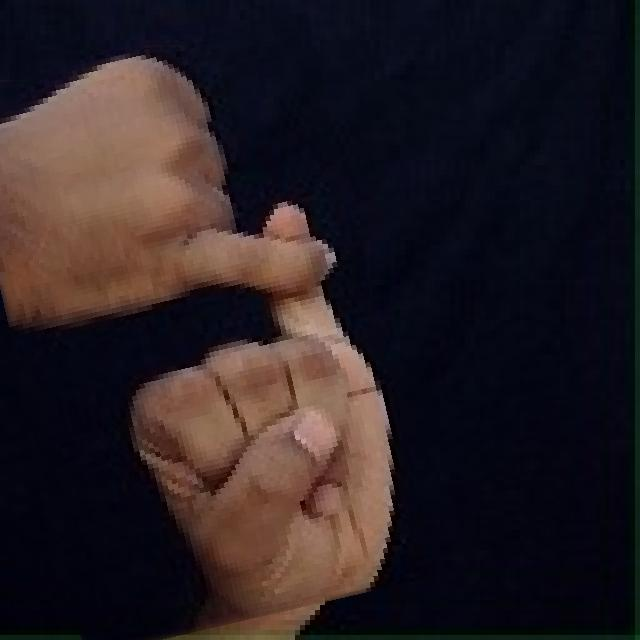S: (0, 27, 407, 640)
